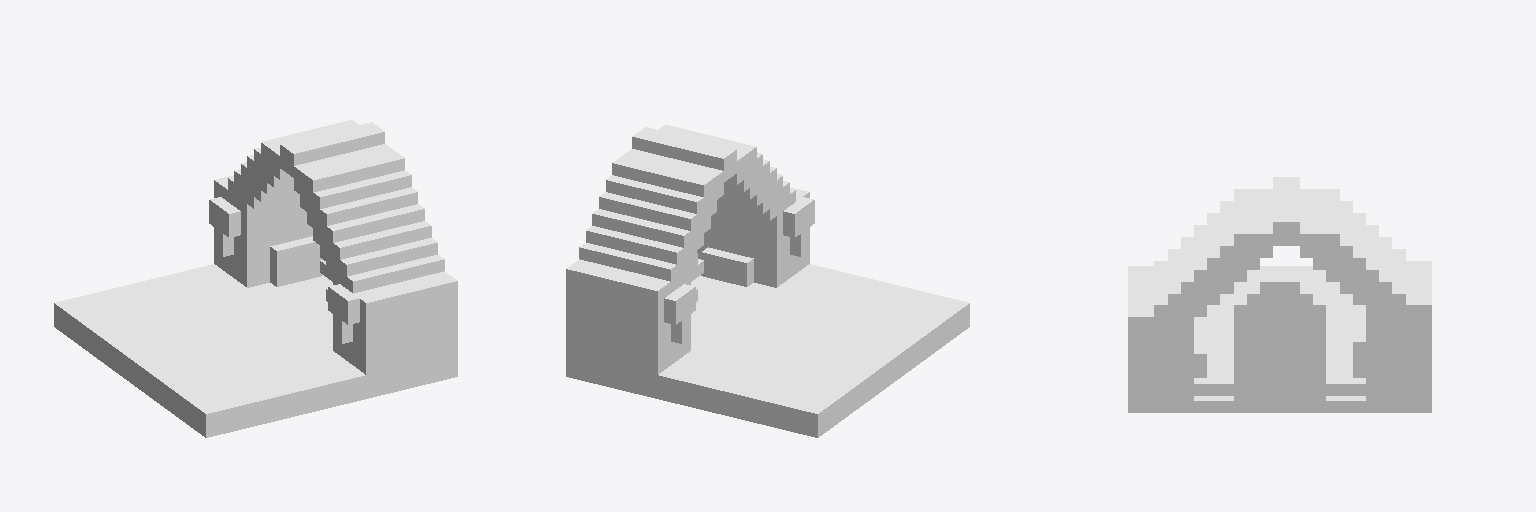
The model's file is Alter.obj.
The picture shows the model from 3 angles: view 1: azimuth 30°, elevation 25°; view 2: azimuth 150°, elevation 25°; view 3: azimuth 270°, elevation 25°; orthographic projection.
Visible parts, largest first — view 1: object 1; view 2: object 1; view 3: object 1.
Boxes of the visible parts, x1,y1,x2,y2 form: object 1: [54, 120, 457, 437]; object 1: [566, 125, 969, 437]; object 1: [1128, 177, 1431, 412].
Bounding box in the file's own units: 2.2 × 1.6 × 2.3.